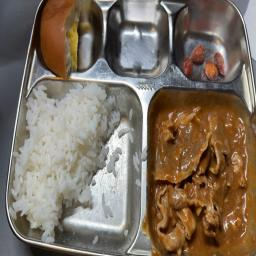100_beef: (150, 95, 254, 256)
25_nuts: (181, 16, 235, 83)
50_bread: (37, 0, 99, 80)
50_rice: (20, 77, 135, 244)
empty: (106, 4, 165, 79)
